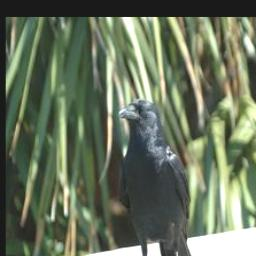Crow: (118, 98, 195, 256)
